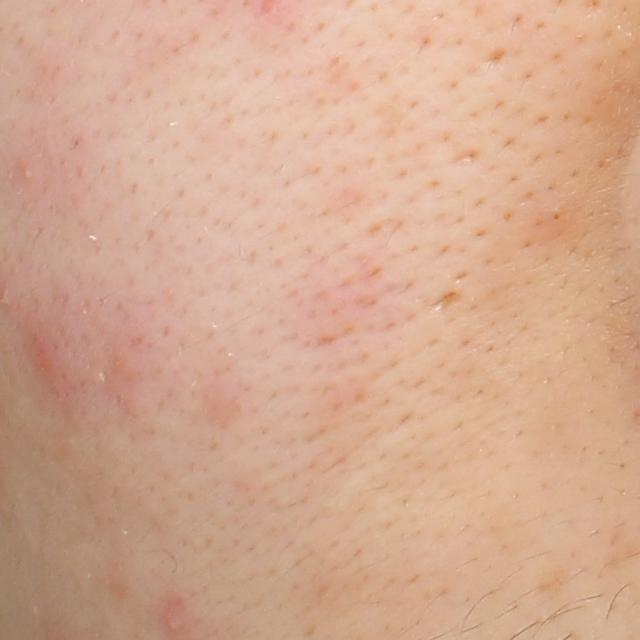atrophic_scar: (432, 286, 461, 311)
